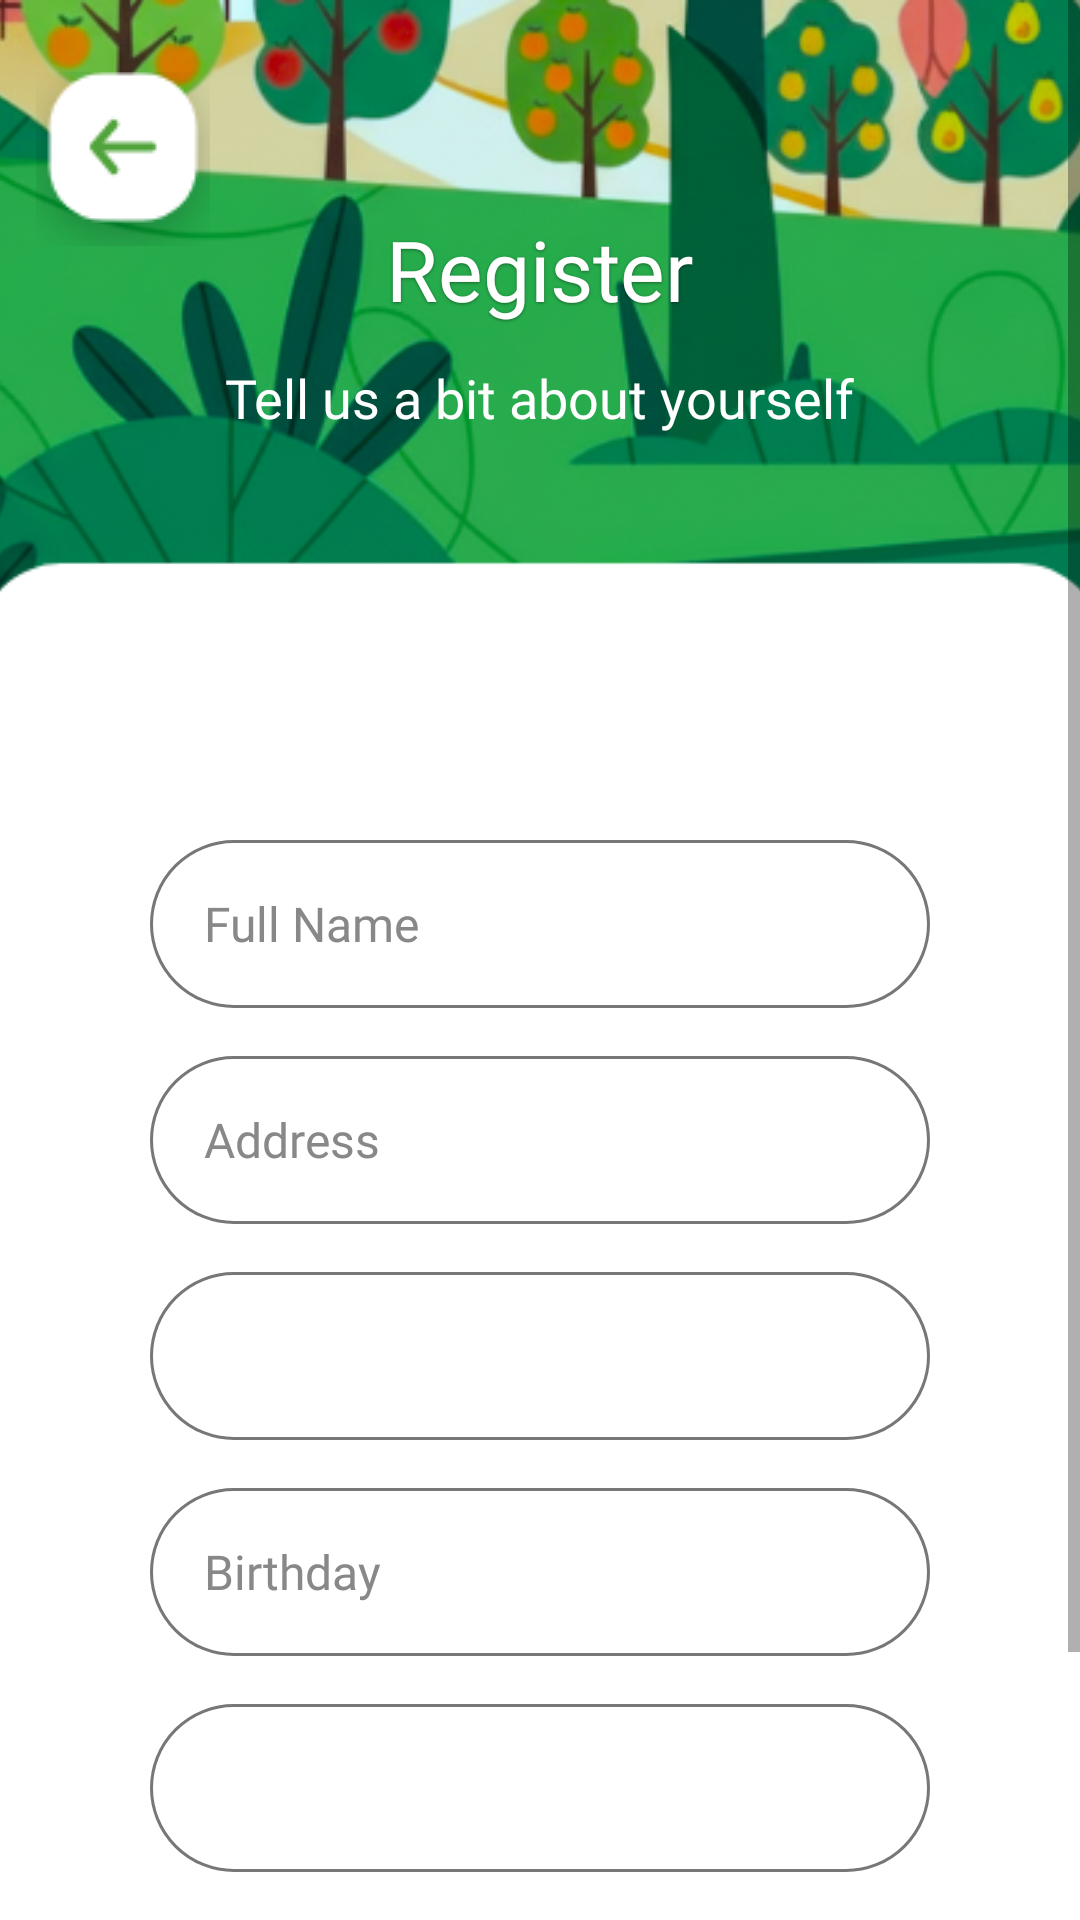

Icons on this 1080px×1920px Android screen, each with the point to tap as [x,y]:
Back: [123,159]
